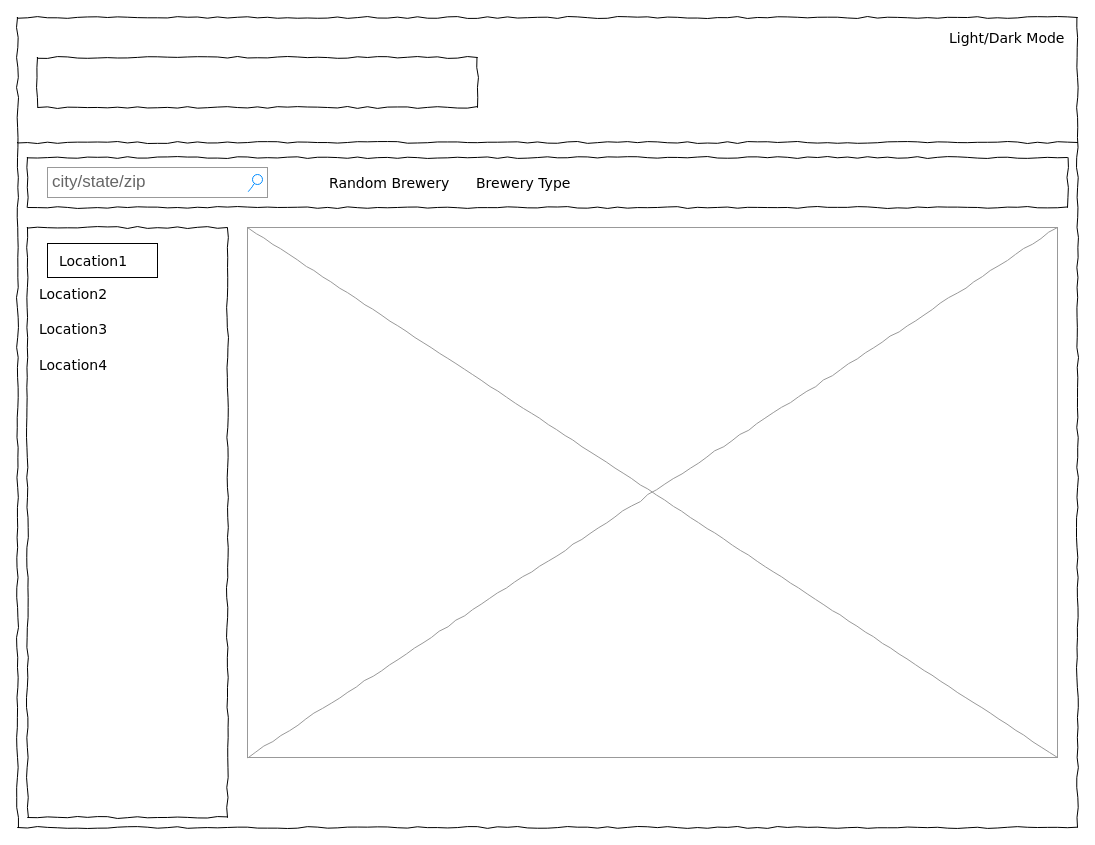
Some shapes in this 1095 by 845 pixel diagram are drawn without their labels. Each missing label, with the centre of its shape:
"Dude, Where's my Brew" goes at point 257,82.
"Google Map data for Location1" goes at point 652,492.
